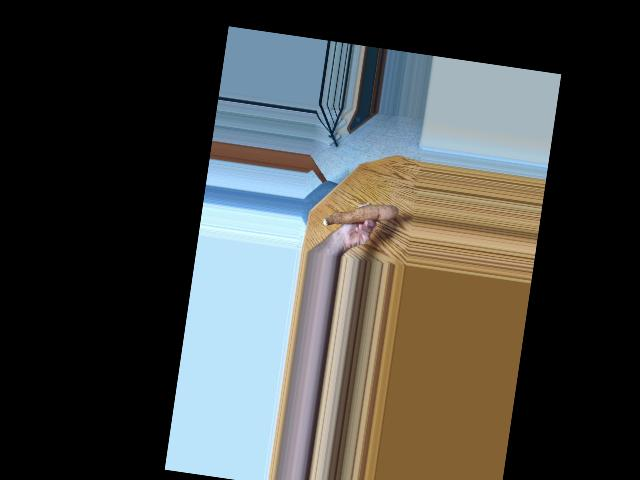sweet_potato: (322, 192, 396, 242)
